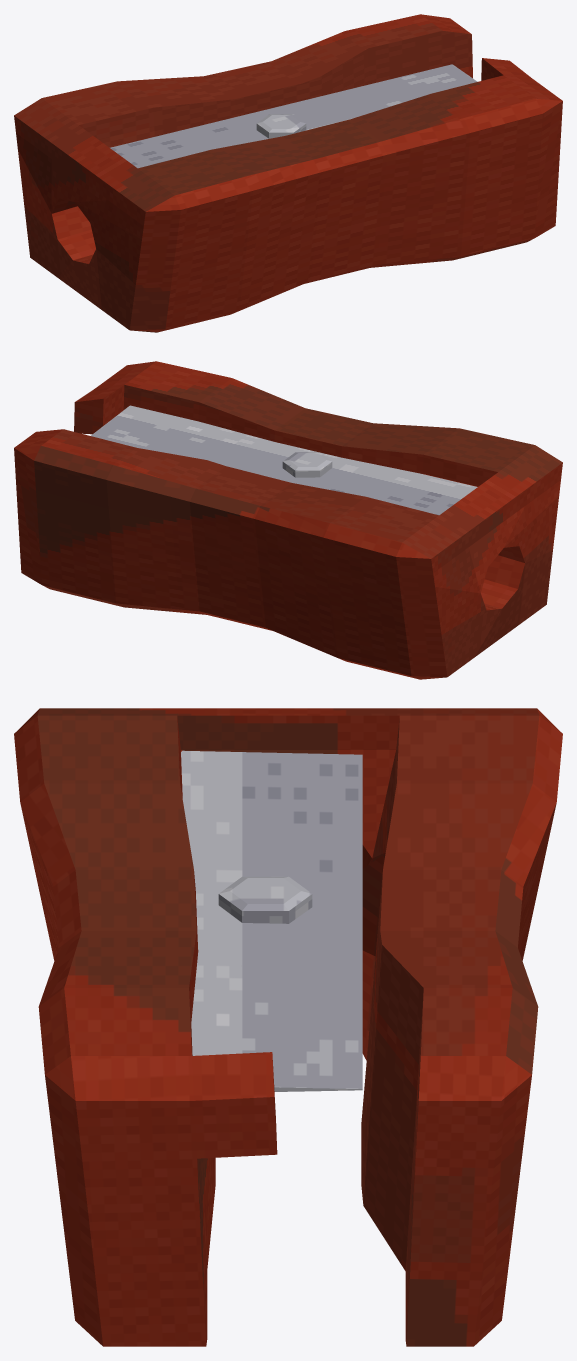
The model's file is Temperino.fbx.
The picture shows the model from 3 angles, top to bottom: view 1: azimuth 30°, elevation 25°; view 2: azimuth 150°, elevation 25°; view 3: azimuth 270°, elevation 25°; orthographic projection. The views are drawn at different scales.
Parts seen in each view (by area): view 1: Cube.018; view 2: Cube.018; view 3: Cube.018.
Part boxes in pixels (x1,y1,x2,y2): Cube.018: (14,14,562,332); Cube.018: (14,361,562,679); Cube.018: (14,708,562,1346).
Bounding box in the file's own units: 0.0396 × 0.0133 × 0.0231.
Materials: 2 (2 with a texture image).
